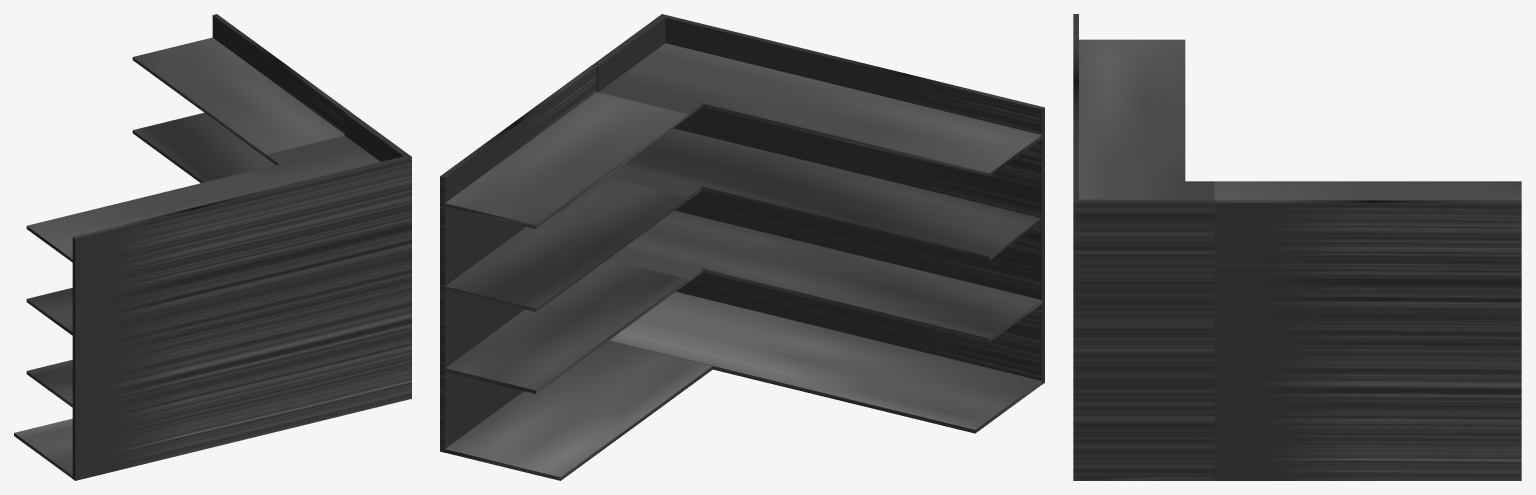
File: furniture_3.fbx
The picture shows the model from 3 angles, left to right: view 1: azimuth 30°, elevation 25°; view 2: azimuth 150°, elevation 25°; view 3: azimuth 270°, elevation 25°; orthographic projection. The views are drawn at different scales.
Visible parts, largest first — view 1: Cube.001; view 2: Cube.001; view 3: Cube.001.
Part boxes in pixels (x1=…): Cube.001: x1=14, y1=14, x2=411, y2=480; Cube.001: x1=440, y1=14, x2=1044, y2=480; Cube.001: x1=1073, y1=14, x2=1521, y2=480.
Size of the model in its own units: 291 by 200 by 292.
